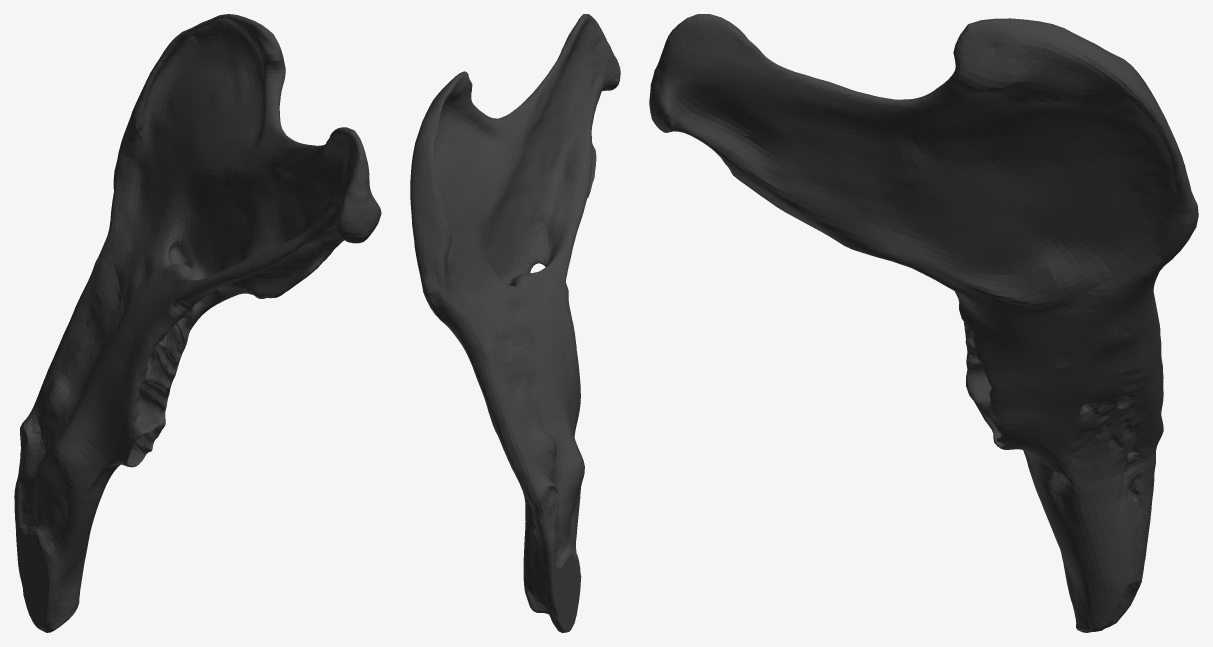
The model's file is MANDIBLE_L_low.glb.
3 views of the same model, side by side, from view 1: azimuth 30°, elevation 25°; view 2: azimuth 150°, elevation 25°; view 3: azimuth 270°, elevation 25° (orthographic). The views are drawn at different scales.
Visible parts, largest first — view 1: MANDIBLE_L_low; view 2: MANDIBLE_L_low; view 3: MANDIBLE_L_low.
Part boxes in pixels (x1=…): MANDIBLE_L_low: x1=14, y1=14, x2=381, y2=632; MANDIBLE_L_low: x1=410, y1=14, x2=620, y2=632; MANDIBLE_L_low: x1=649, y1=14, x2=1198, y2=632.
Size of the model in its own units: 1.99 by 5.78 by 4.04.
Materials: 1 (1 with a texture image).
